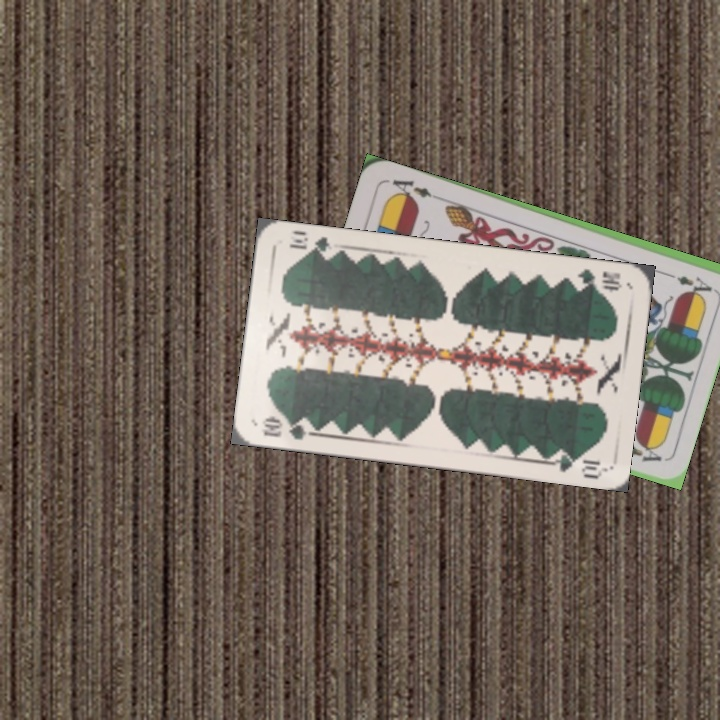EA: (659, 268, 715, 294)
G10: (258, 413, 317, 443), (573, 264, 624, 294)
